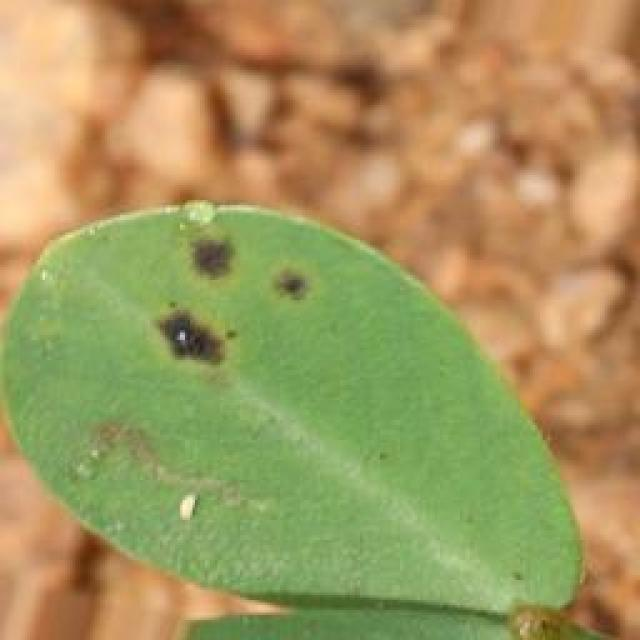Yellowish: (92, 168, 418, 545)
